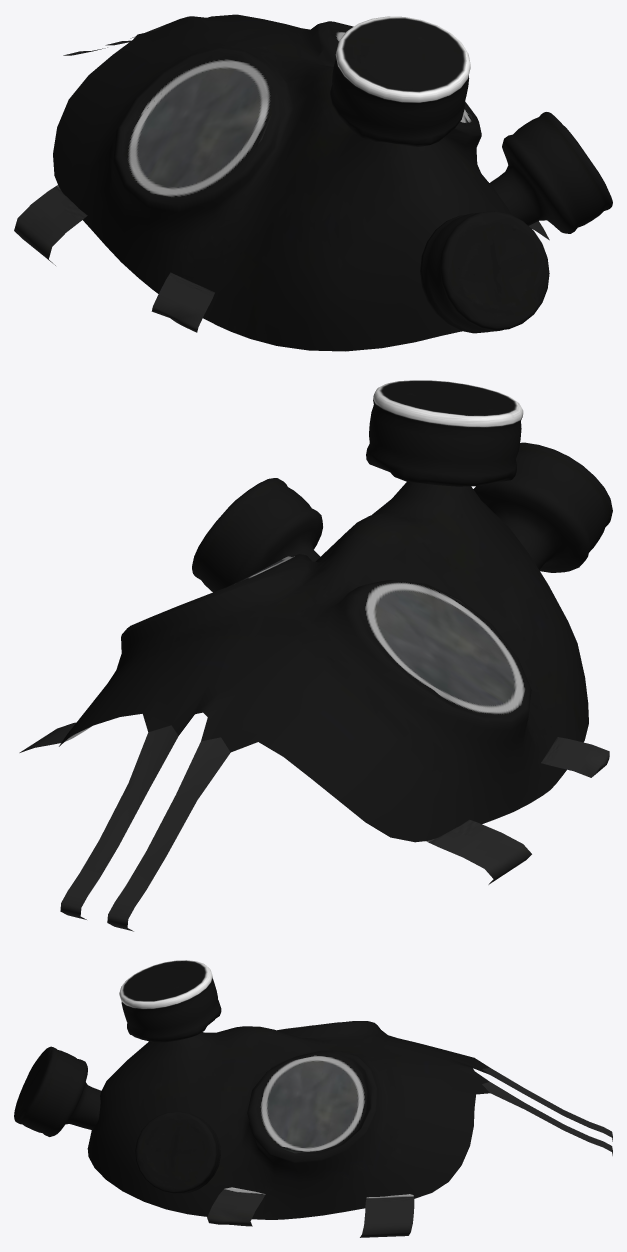
The model's file is gasmask.gltf.
3 views of the same model, one above another, from view 1: azimuth 30°, elevation 25°; view 2: azimuth 150°, elevation 25°; view 3: azimuth 270°, elevation 25° (orthographic). The views are drawn at different scales.
Parts seen in each view (by area): view 1: Scene_Root; view 2: Scene_Root; view 3: Scene_Root.
Part boxes in pixels (x1=…): Scene_Root: x1=14, y1=14, x2=612, y2=351; Scene_Root: x1=19, y1=380, x2=612, y2=931; Scene_Root: x1=14, y1=960, x2=612, y2=1237.
Size of the model in its own units: 0.076 by 0.0496 by 0.1301.
Materials: 1 (1 with a texture image).
